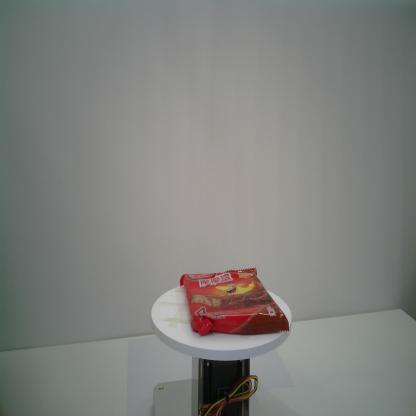Dessert: (180, 268, 290, 336)
